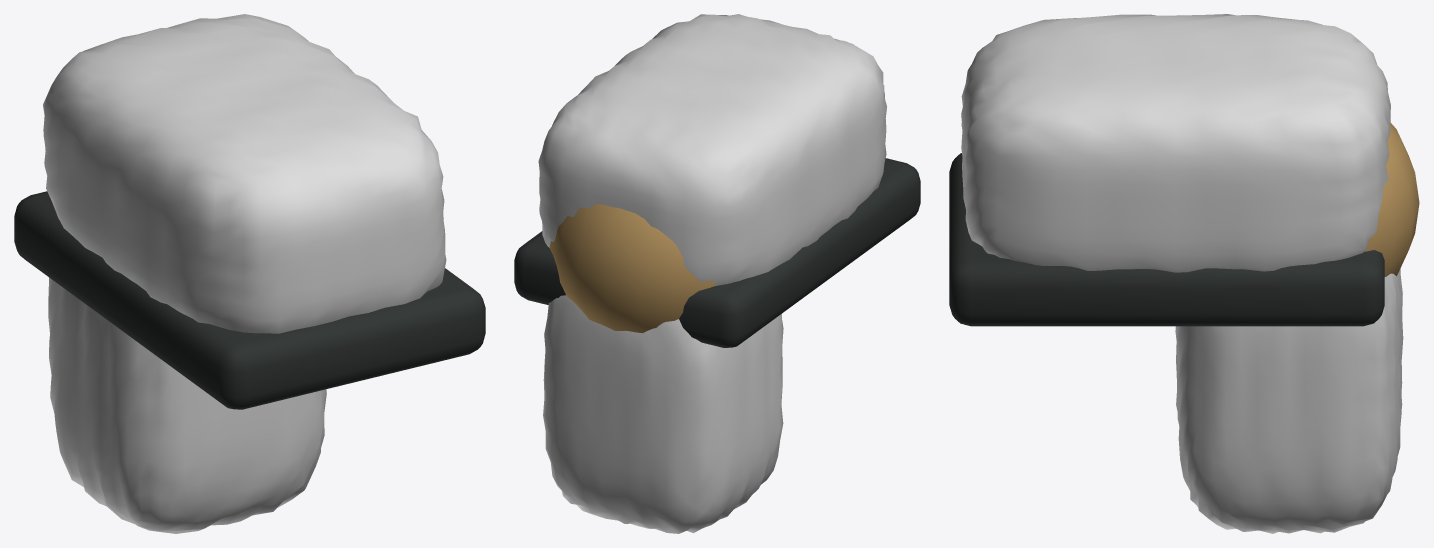
Rendered from hotshot-leg-0.glb.
3 renders of one model, left to right at view 1: azimuth 30°, elevation 25°; view 2: azimuth 150°, elevation 25°; view 3: azimuth 270°, elevation 25°, orthographic. The views are drawn at different scales.
Parts seen in each view (by area): view 1: foot_clay, upper_clay, foot_rubber; view 2: foot_clay, upper_clay, foot_rubber, upper_brass; view 3: foot_clay, upper_clay, foot_rubber, upper_brass.
Part boxes in pixels (<box>): foot_clay: <box>43,14,446,333</box>; upper_clay: <box>48,277,326,533</box>; foot_rubber: <box>14,191,485,409</box>; foot_clay: <box>538,14,886,285</box>; upper_clay: <box>543,295,783,533</box>; foot_rubber: <box>514,158,920,347</box>; upper_brass: <box>549,204,715,332</box>; foot_clay: <box>961,14,1390,272</box>; upper_clay: <box>1175,268,1403,533</box>; foot_rubber: <box>949,153,1384,326</box>; upper_brass: <box>1365,122,1419,276</box>.
Size of the model in its own units: 0.3429 by 0.5803 by 0.54.
